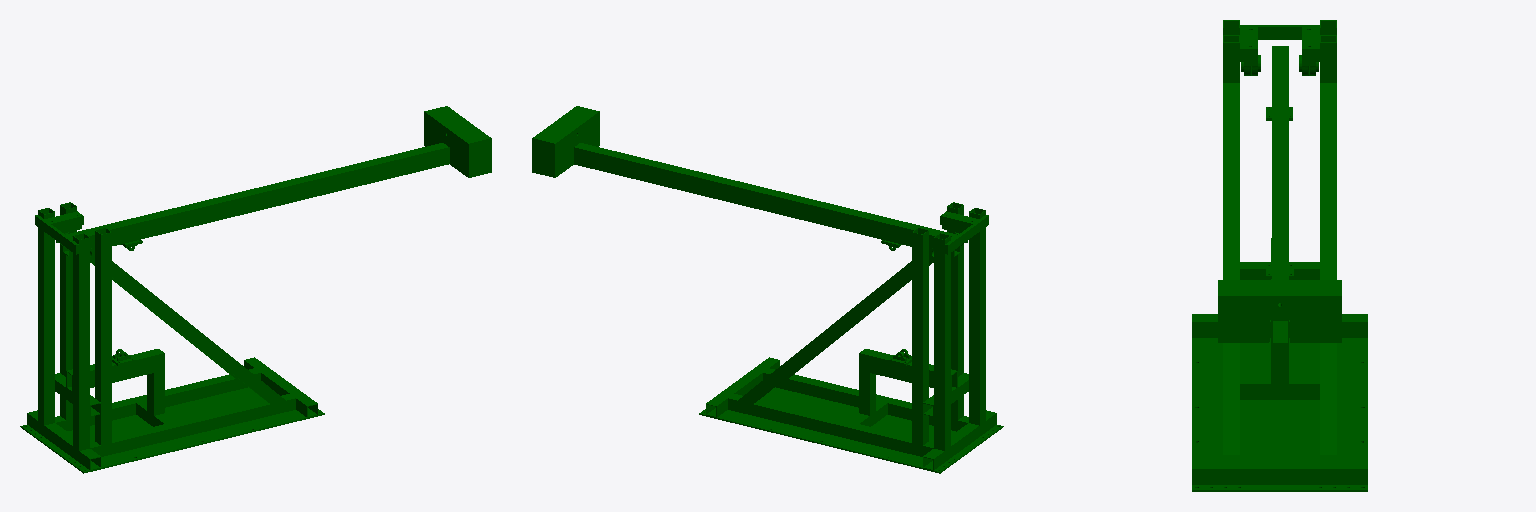
URDF robot description (green_crane):
<?xml version="1.0"?>
<robot name="green_crane">

  <material name="green">
    <color rgba="0 0.4 0 1"/>
  </material>

  <link name="base_link">
    <visual>
      <origin rpy="0.0 0 0" xyz="0 0 0.57207"/>
      <geometry>
        <mesh filename="package://crane_visualization/meshes/frame_URDF.STL"/>
      </geometry>
      <material name="green"/>
    </visual>
  </link>

  <link name="crane_boom">
    <visual>
      <origin rpy="0 0 0" xyz="3.10836 0 0.06343"/>
      <geometry>
        <mesh filename="package://crane_visualization/meshes/boom_URDF.STL"/>
      </geometry>
      <material name="green"/>
    </visual>
  </link>
  

  <link name="toolpoint">
    <visual>
      <geometry>
        <box size="0 0 0"/>
      </geometry>
      <material name="green"/>
      <origin xyz="0 0 0.956"/>
    </visual>
  </link>
  
    
  <joint name="base_to_crane_boom" type="revolute">
    <axis xyz="0 1 0"/>
    <limit effort="1000.0" lower="0.3267" upper="-0.6948" velocity="0.5"/>
    <origin rpy="0 0 0"  xyz="-0.56876 0 1.752"/>
    <parent link="base_link"/>
    <child link="crane_boom"/>
  </joint>


  <joint name="crane_boom_to_toolpoint" type="fixed">
    <origin rpy="0 0 0"  xyz="3.6 0 0"/>
    <parent link="crane_boom"/>
    <child link="toolpoint"/>
  </joint>

</robot>

--- Render facts (derived) ---
The picture shows the robot from 3 angles, left to right: view 1: azimuth 30°, elevation 25°; view 2: azimuth 150°, elevation 25°; view 3: azimuth 270°, elevation 25°; orthographic projection.
Model green_crane with 3 links and 2 joints (1 revolute, 1 fixed), rooted at base_link, posed every joint at zero.
Links seen in each view (by area): view 1: base_link, crane_boom; view 2: base_link, crane_boom; view 3: base_link, crane_boom.
Link boxes in pixels (x1,y1,x2,y2): base_link: [20, 202, 324, 473]; crane_boom: [63, 106, 491, 256]; base_link: [699, 202, 1003, 473]; crane_boom: [532, 106, 960, 256]; base_link: [1192, 20, 1367, 491]; crane_boom: [1218, 46, 1341, 343].
Bounding box of the posed robot: 3.81 × 1 × 2.71 m (x, y, z).
Meshes: 2 distinct files referenced, 2 mesh visuals loaded (2 binary STL).